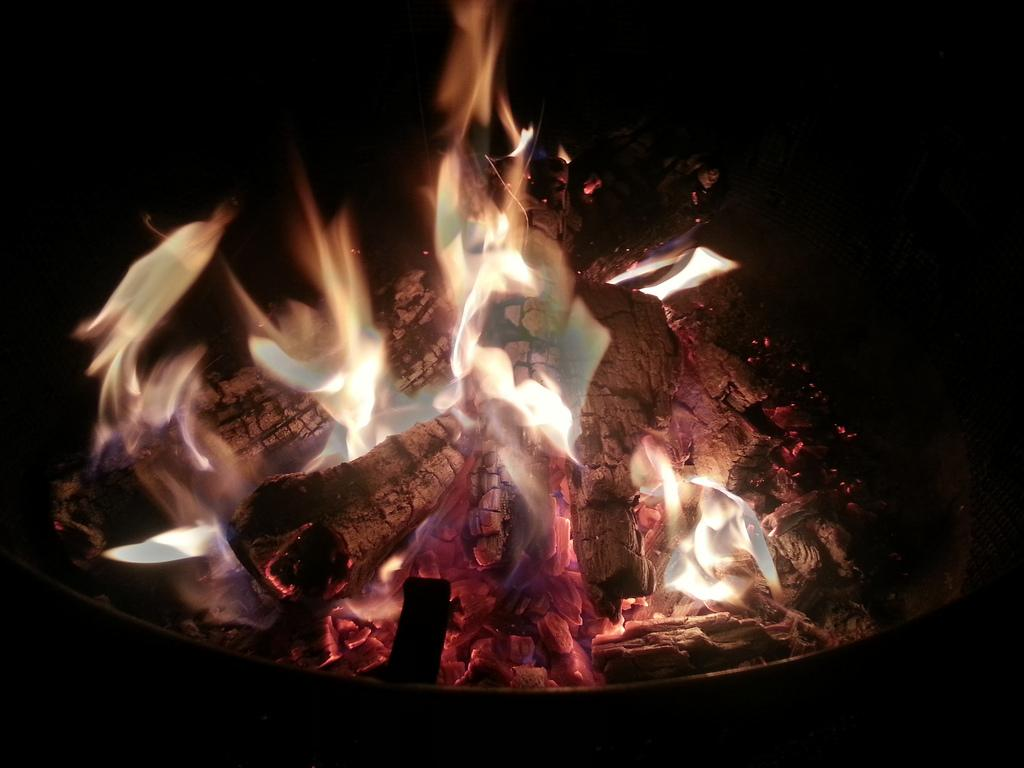fire: (104, 240, 398, 448), (452, 210, 584, 466)
